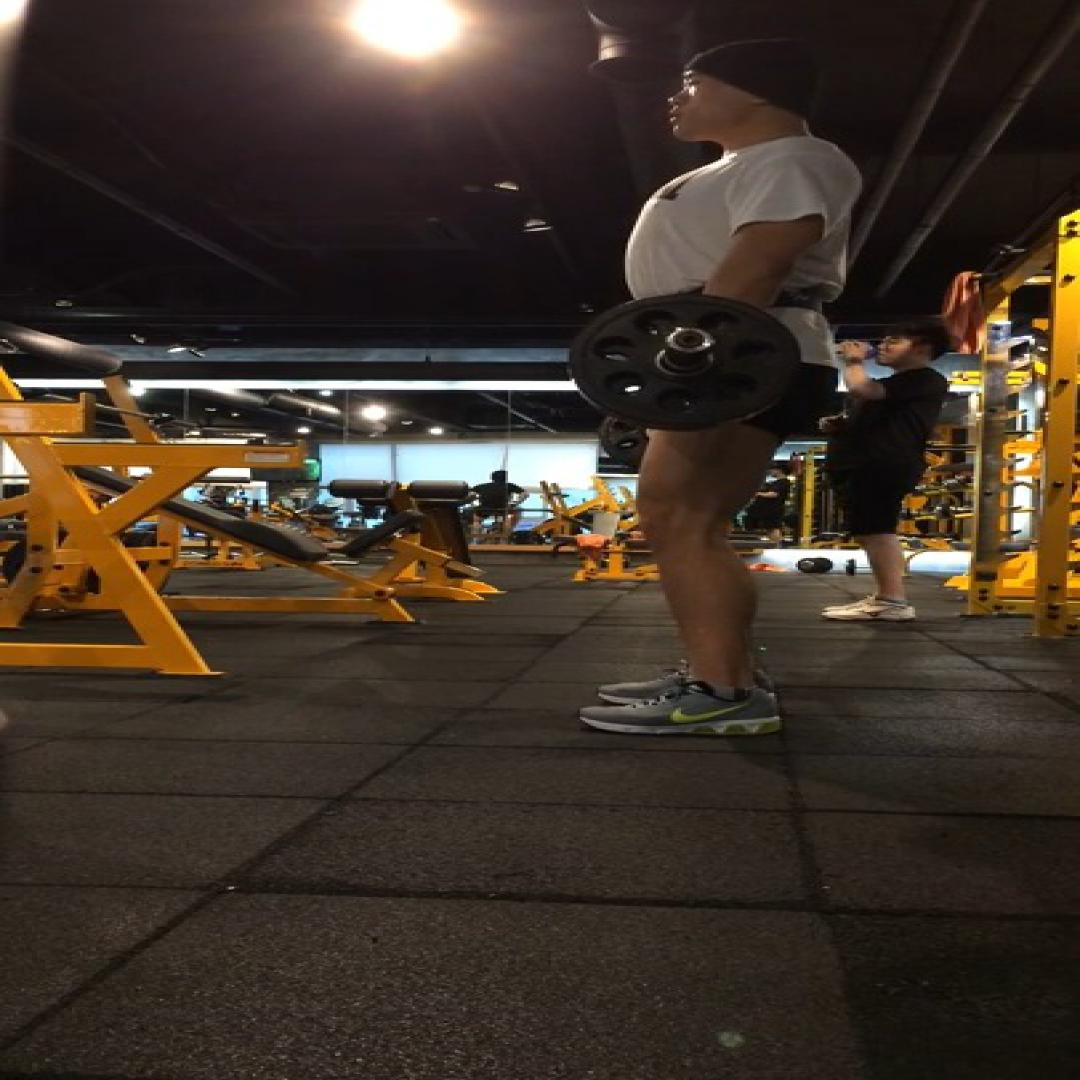Bar: (668, 327, 713, 353)
Barbell: (569, 294, 798, 429)
